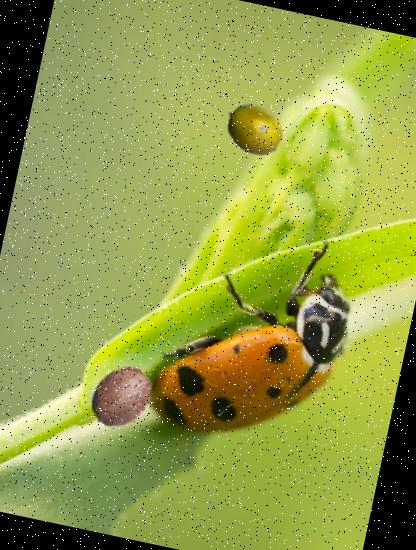Cocos: (80, 356, 162, 438)
Maracuja: (219, 95, 290, 166)
